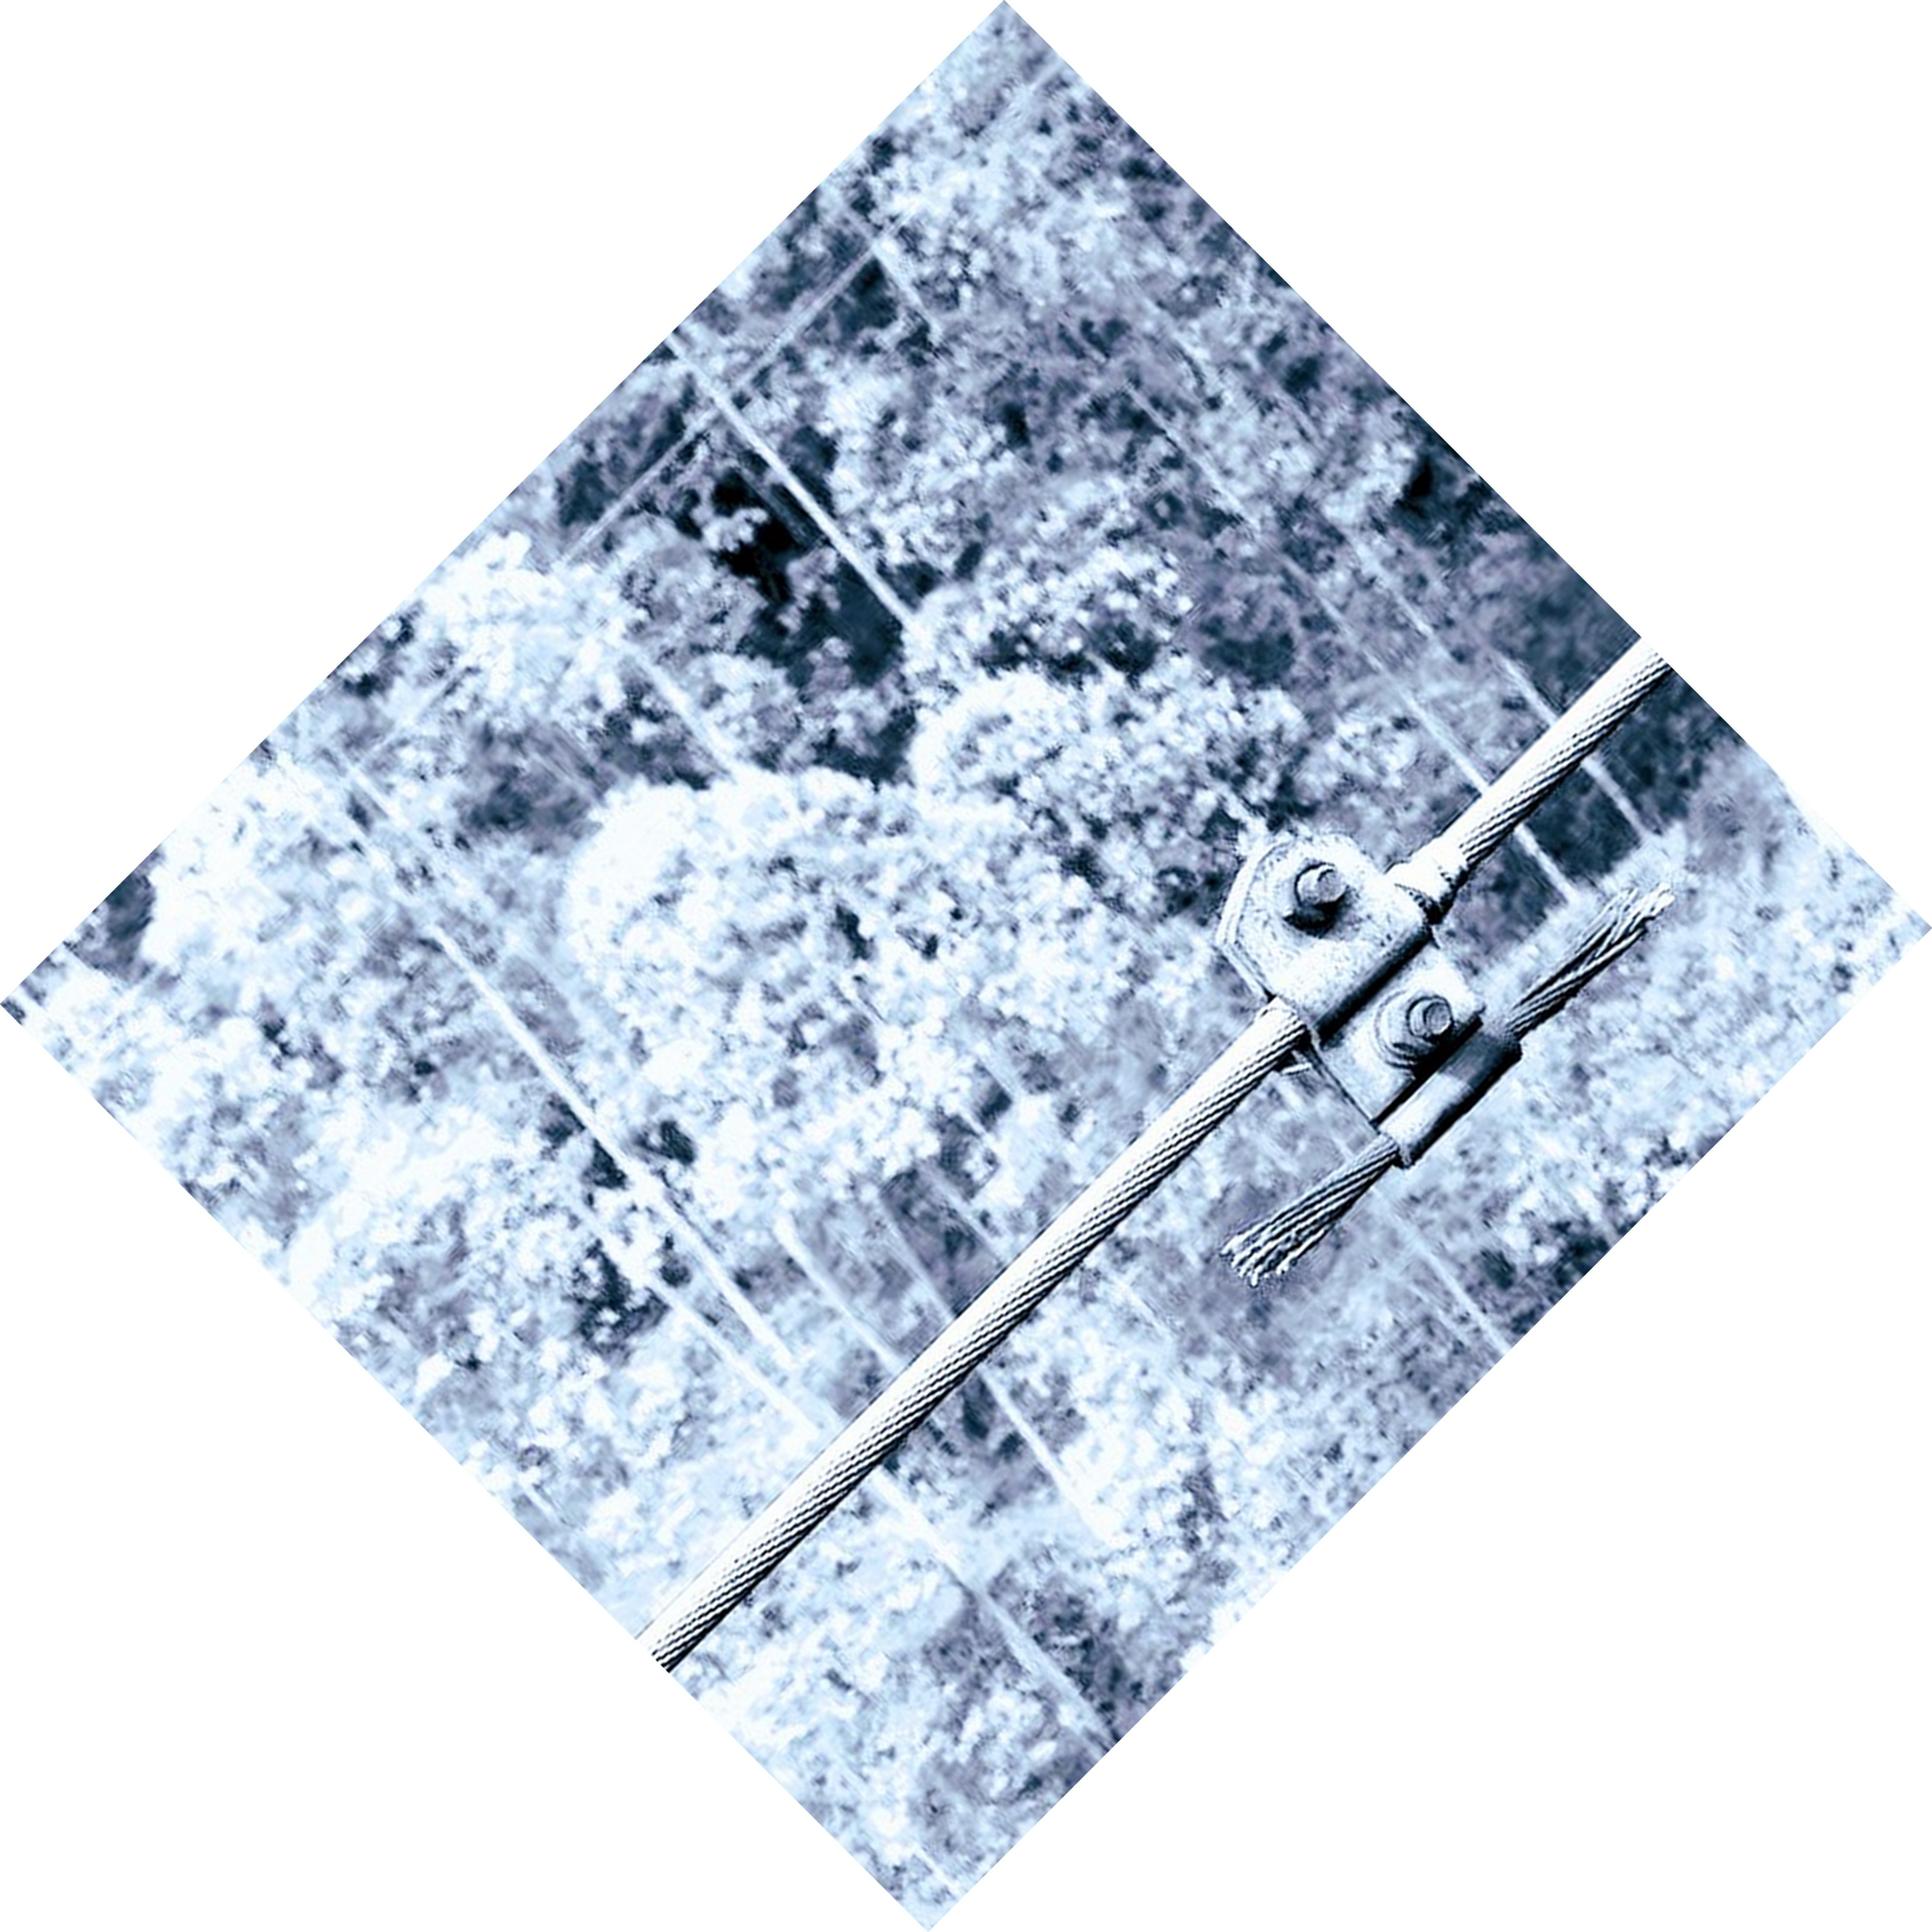Damage of shockproof hammer: (1161, 778, 1693, 1316)
